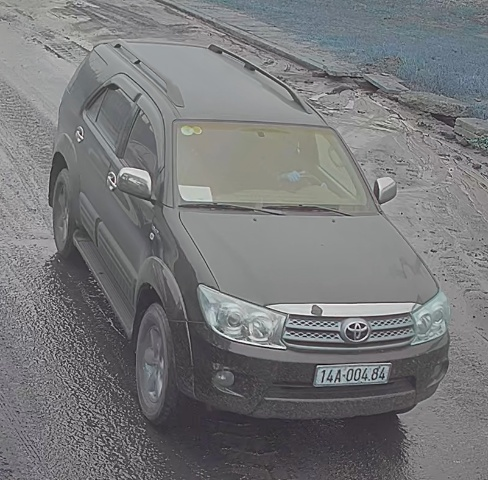vehicle plate: (310, 362, 397, 389)
